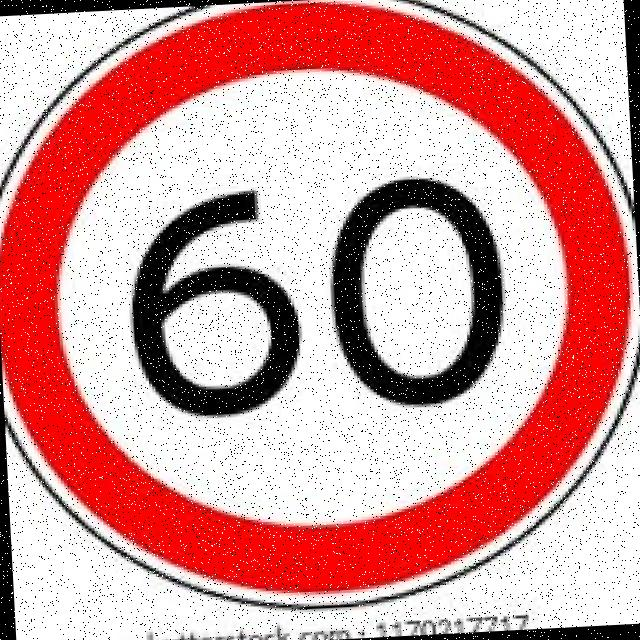speed_limit_60: (0, 0, 640, 627)
